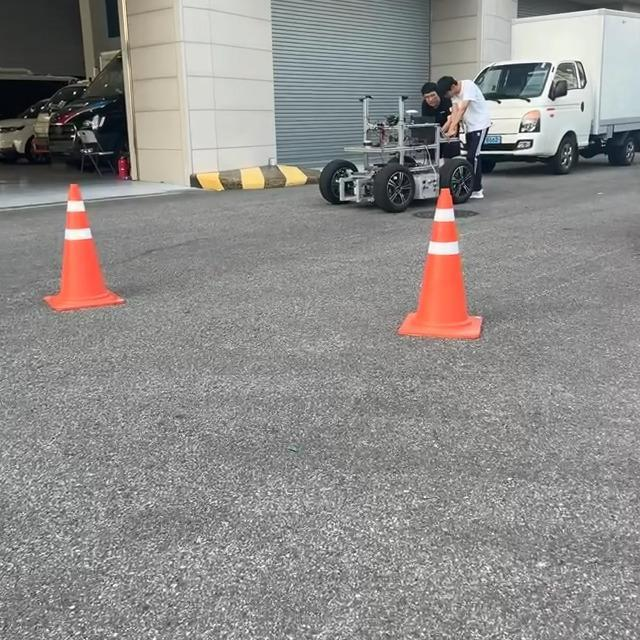fallen_object: (367, 176, 497, 372), (30, 173, 128, 344)
